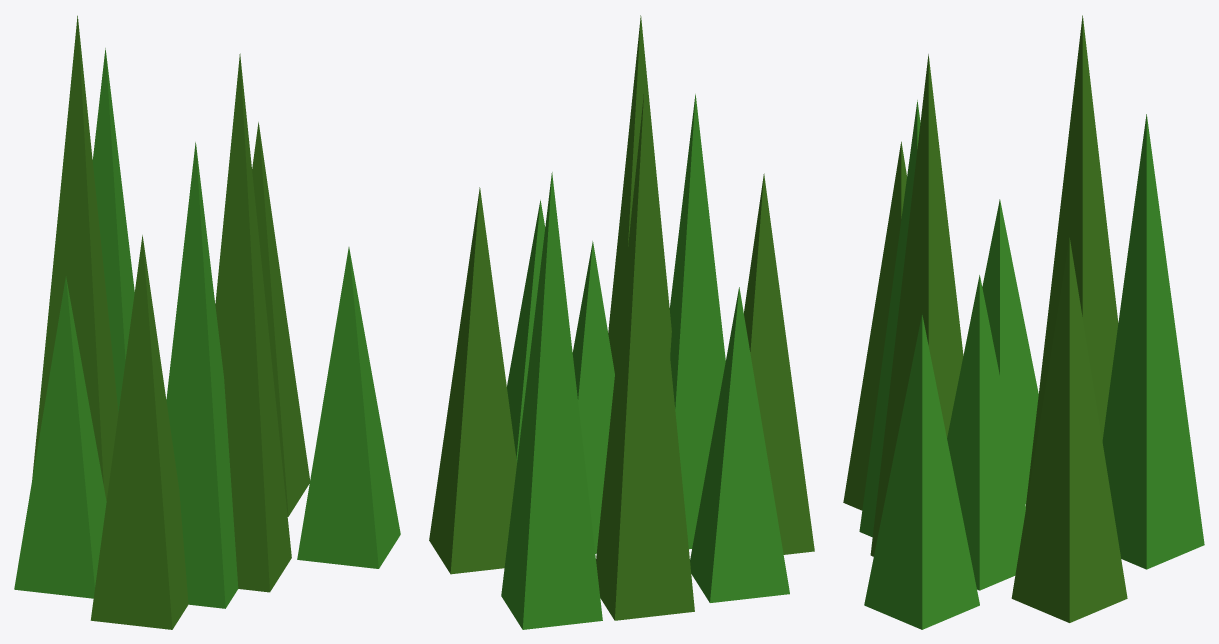
Rendered from Grass_Clump.obj.
3 views of the same model, side by side, from view 1: azimuth 30°, elevation 25°; view 2: azimuth 150°, elevation 25°; view 3: azimuth 270°, elevation 25° (orthographic). The views are drawn at different scales.
Visible parts, largest first — view 1: Grass_Clump; view 2: Grass_Clump; view 3: Grass_Clump.
Part boxes in pixels (left/top/right/bottom): Grass_Clump: left=14, top=15, right=400, bottom=629; Grass_Clump: left=429, top=15, right=814, bottom=629; Grass_Clump: left=843, top=15, right=1204, bottom=629.
Bounding box in the file's own units: 0.3007 × 0.43 × 0.2803.
